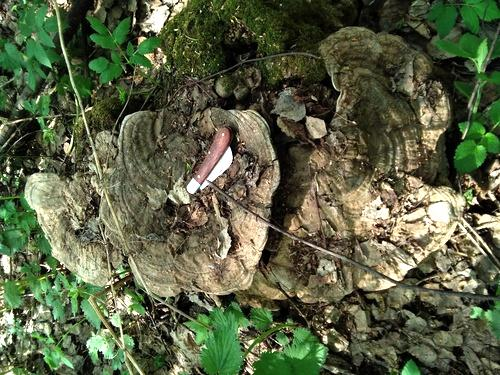Ganoderma - Fruit Body: (23, 106, 281, 302), (292, 28, 468, 308)
